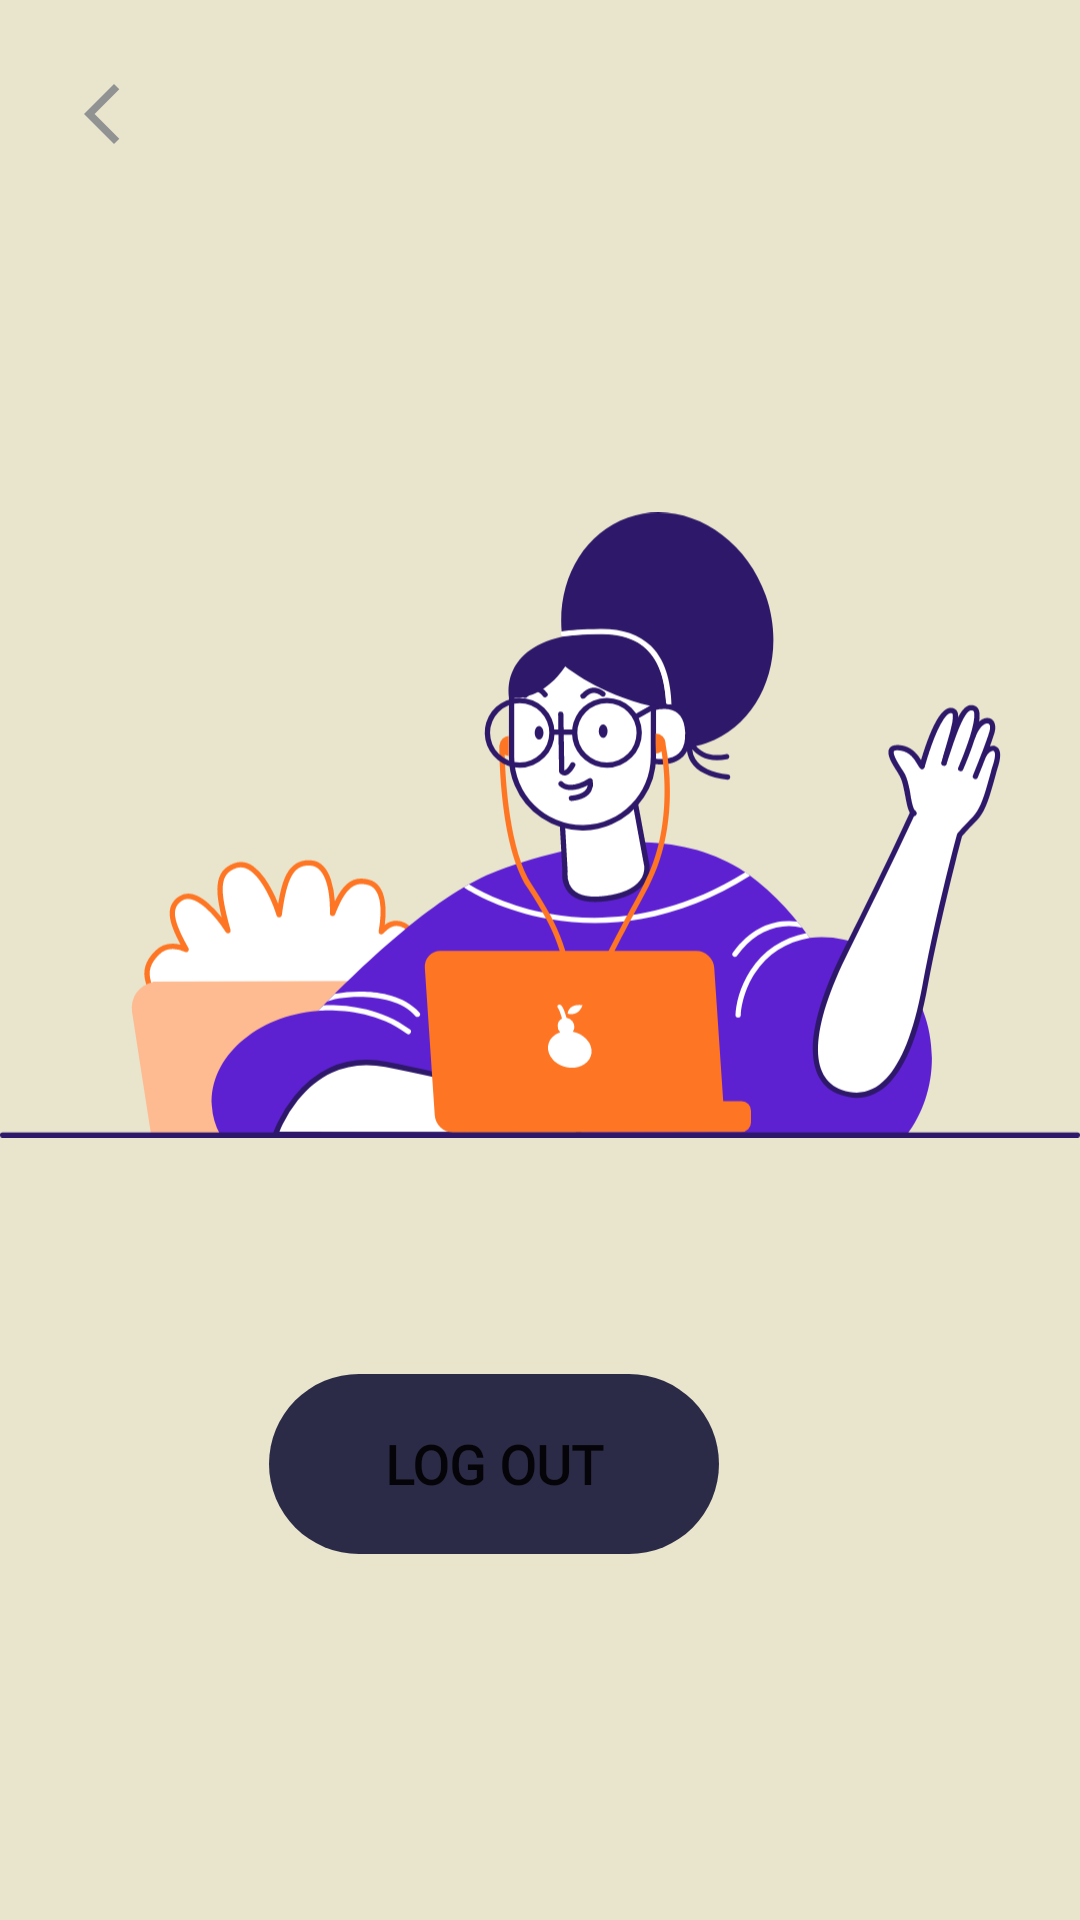

Icon bounding boxes for this 1080×1920 phone screenshot, format detection(x1, y1, x2, y2):
back: detection(84, 84, 119, 144)
